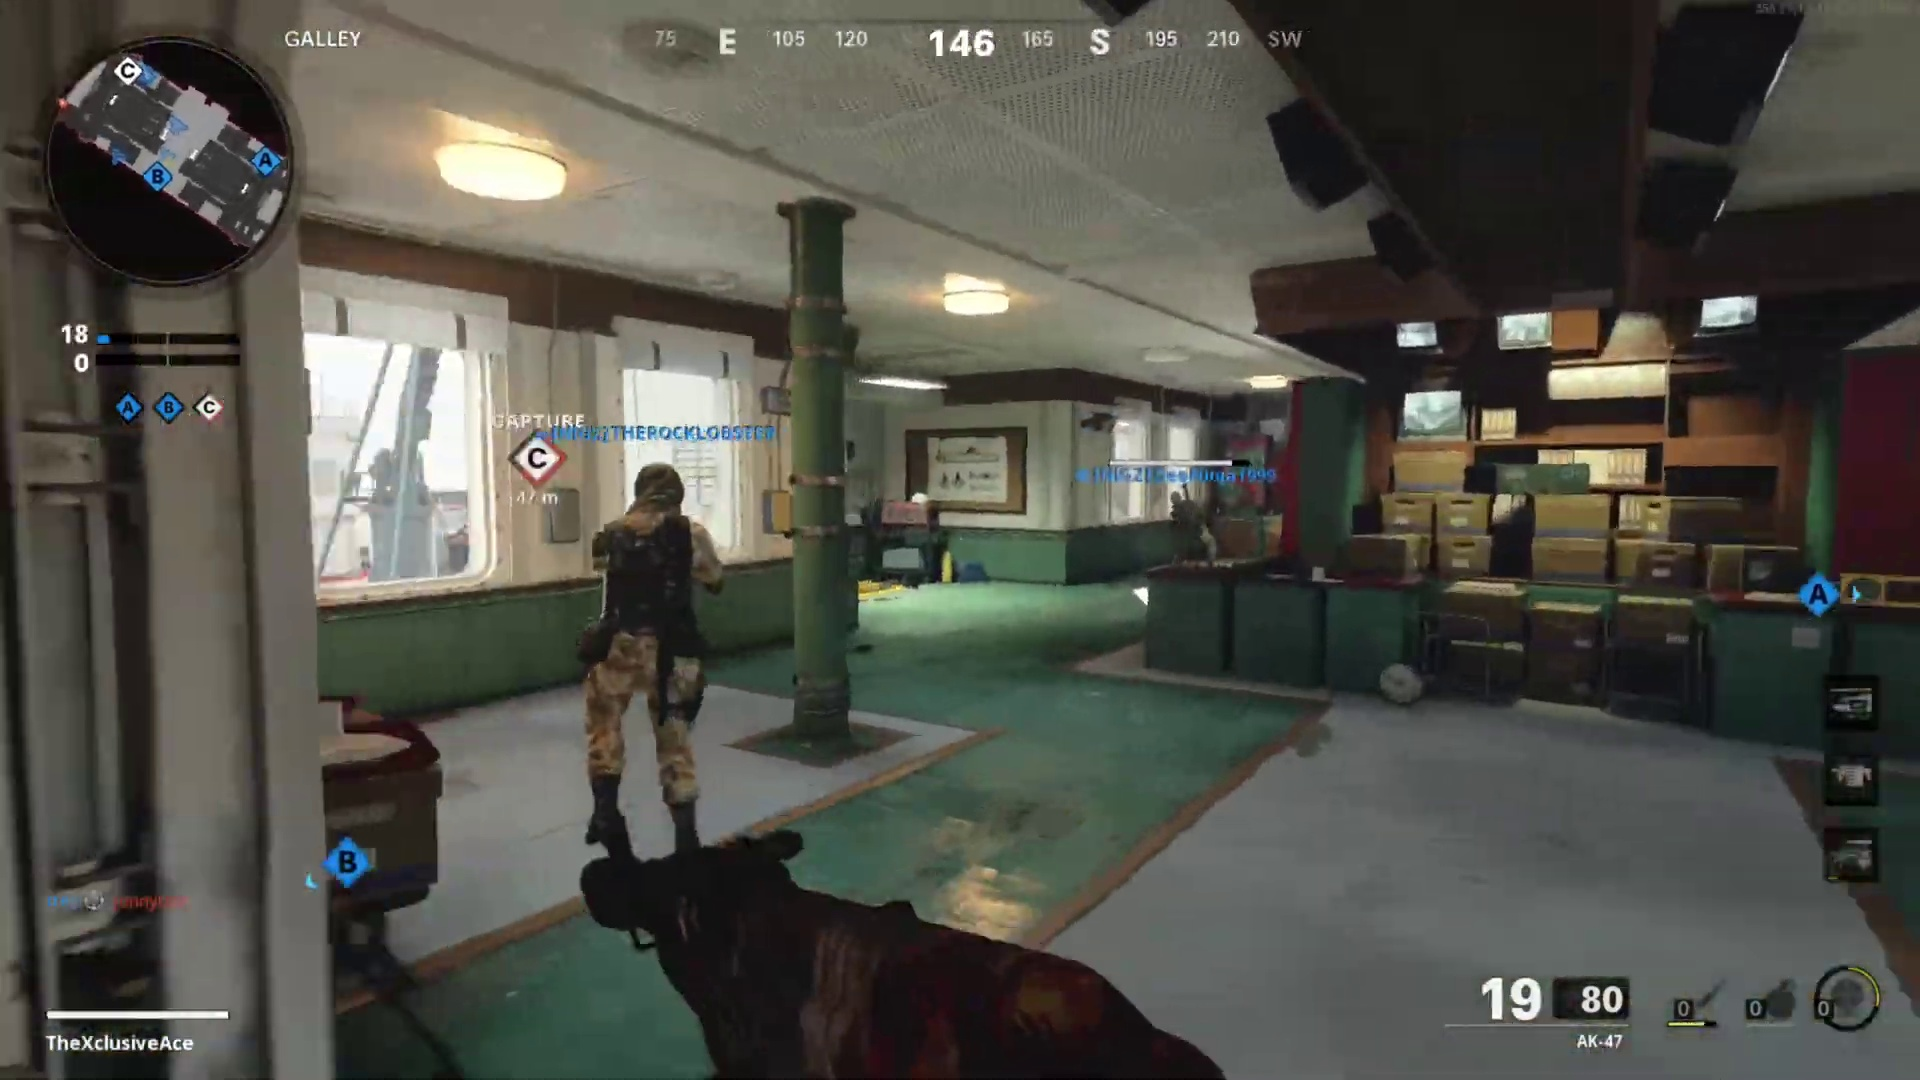head: (625, 465, 691, 530), (1166, 487, 1190, 509)
person: (568, 458, 725, 850), (1168, 483, 1220, 560)
